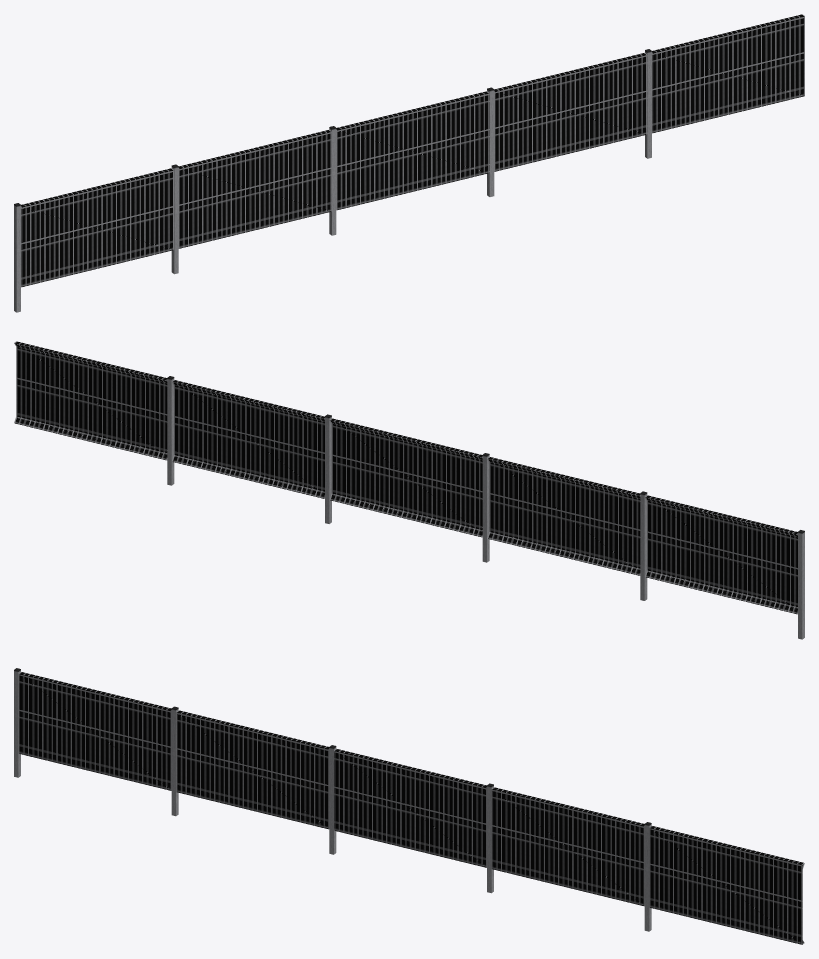
Rendered from fence-mesh-grey-5s-cbj_LOD01.gltf.
3 renders of one model, top to bottom at view 1: azimuth 30°, elevation 25°; view 2: azimuth 150°, elevation 25°; view 3: azimuth 330°, elevation 25°, orthographic.
Parts seen in each view (by area): view 1: post.002; view 2: post.002; view 3: post.002.
Boxes of the visible parts, x1,y1,x2,y2 form: post.002: [14, 14, 804, 312]; post.002: [14, 341, 804, 639]; post.002: [14, 668, 804, 944].
Bounding box in the file's own units: 12.35 × 1.6 × 0.07.
